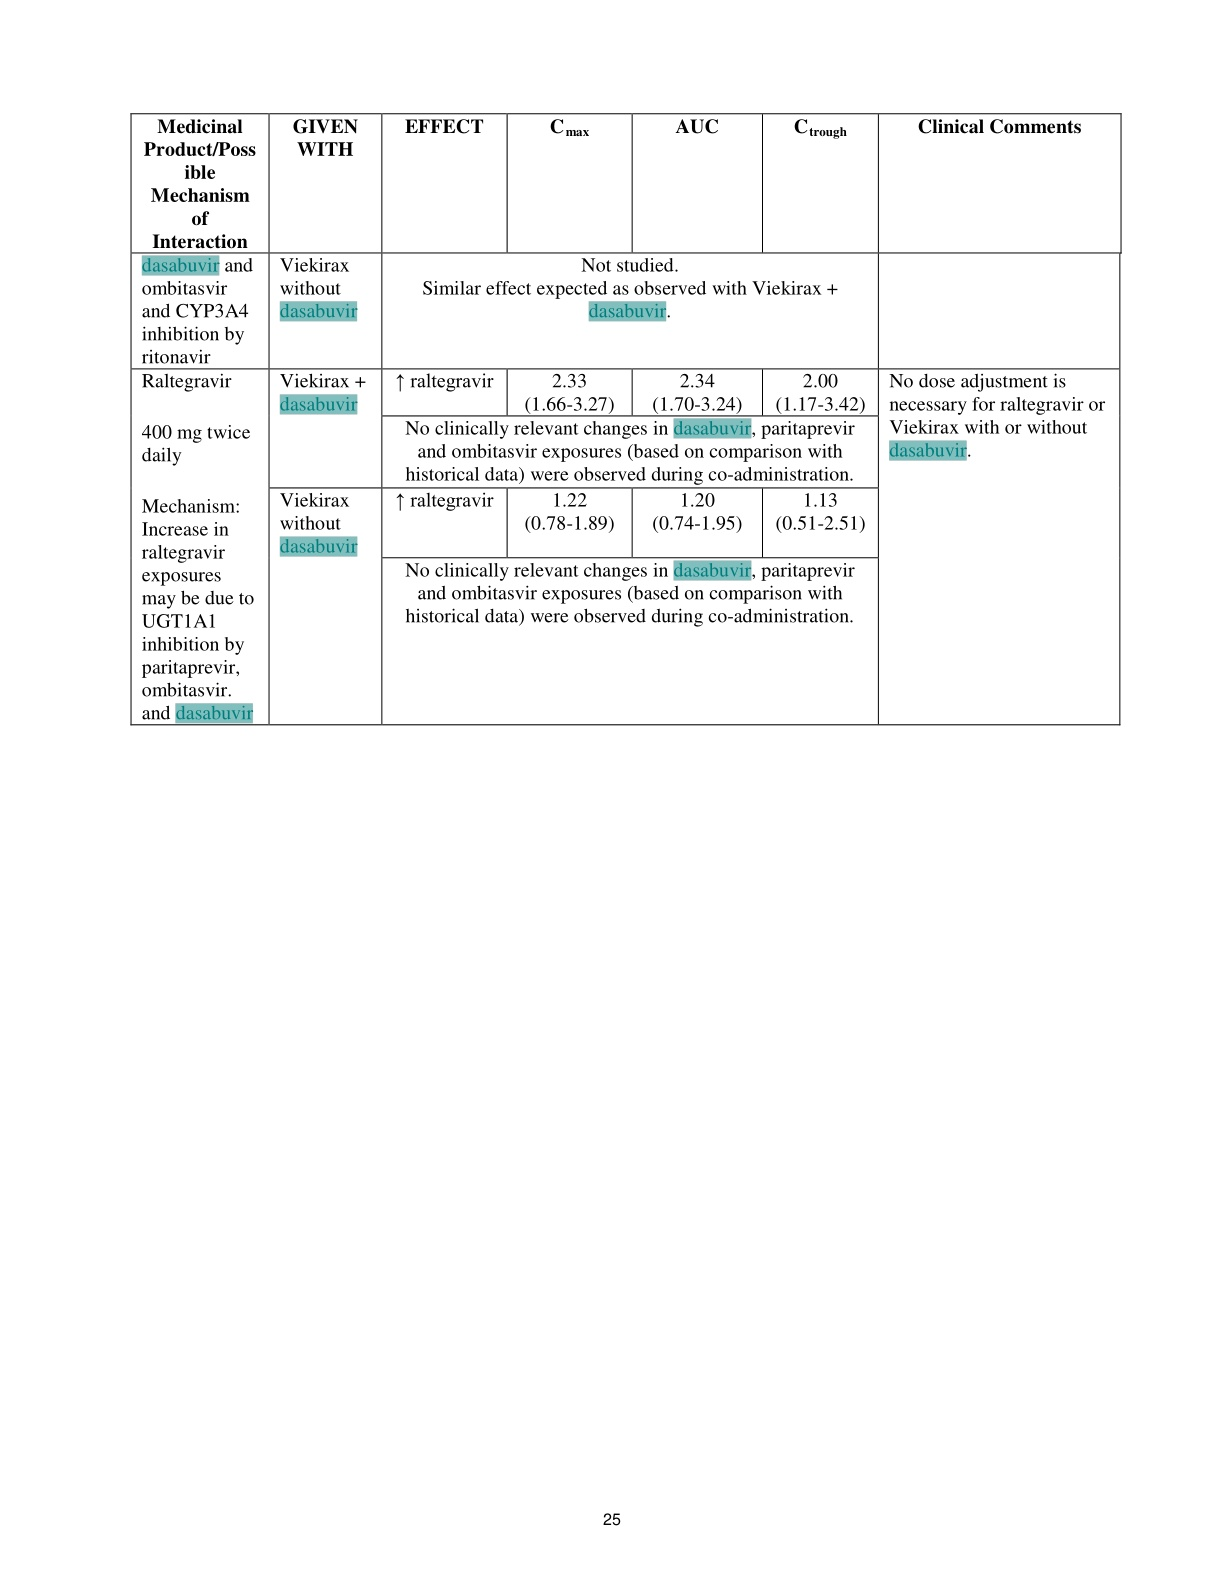merged_cells: (129, 112, 1121, 726)
